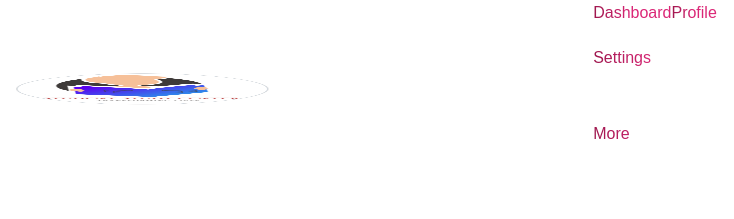
it: Navbar › Desktop View › switches active dropdown when clicking another dropdown link
The width and height of the screenshot is (734, 219).
Click the link "Settings": (655, 58) [593,25,717,91]
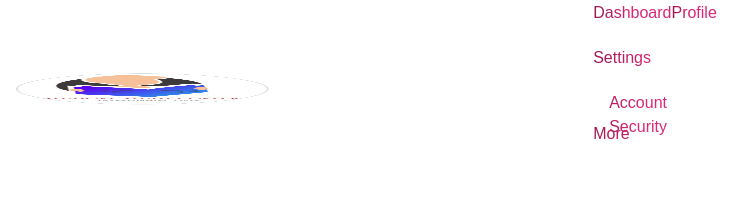
Result: the link "Account" is shown at [593,91,683,115]
Click the link "More": (655, 134) [593,91,717,178]
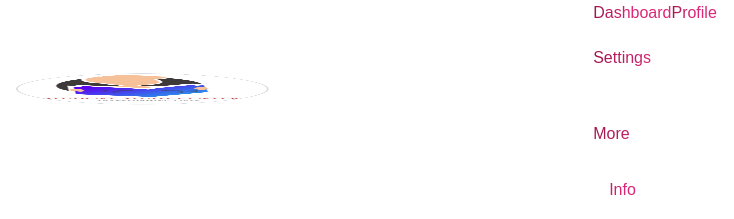
Result: the link "Account" is gone
Result: the link "Info" is shown at [593,178,652,202]
